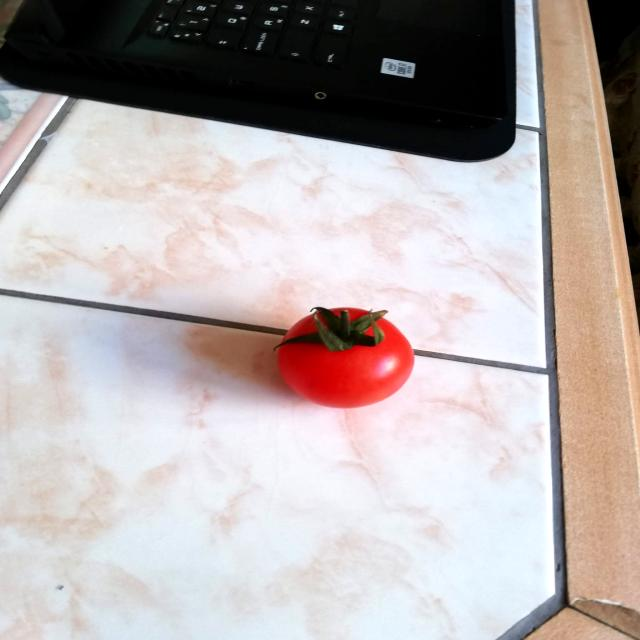tomato: (268, 298, 421, 412)
